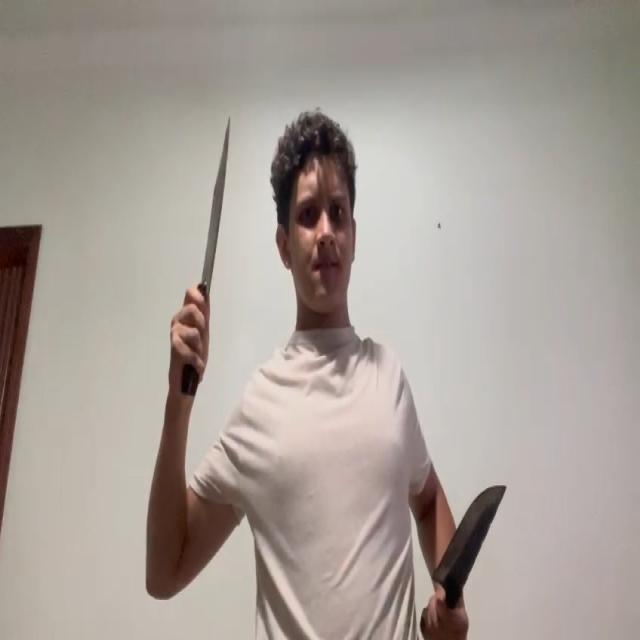Knife: (169, 120, 231, 399), (413, 484, 507, 640)
